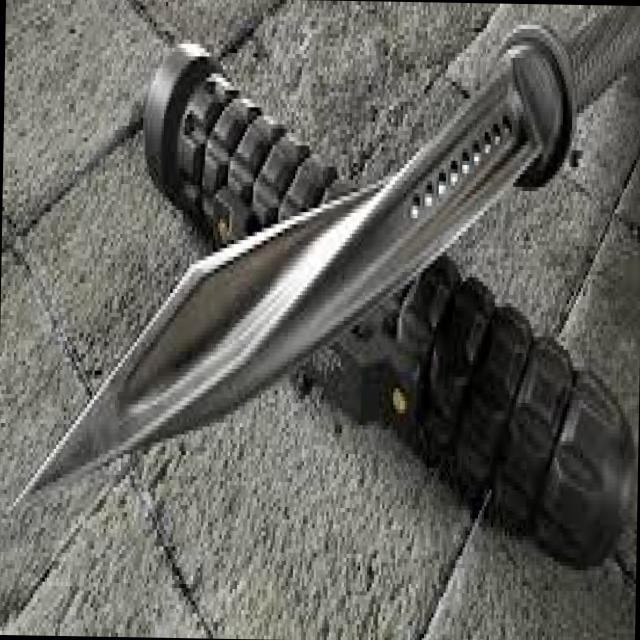Gun: (13, 0, 640, 603)
